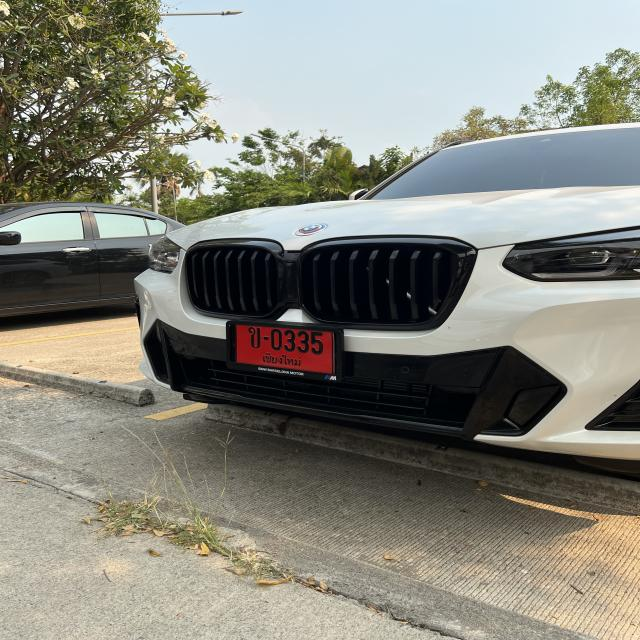license_plate: (225, 319, 346, 385)
